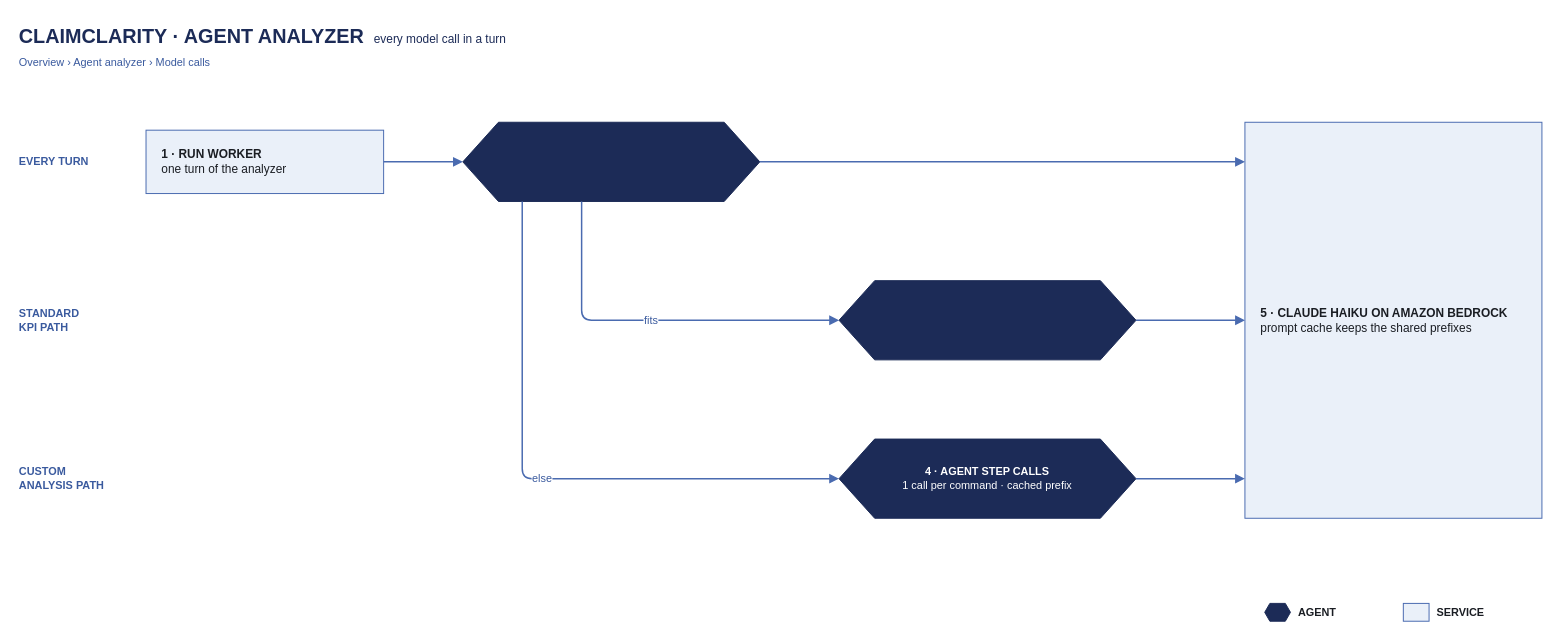
Image size: 1559x644. Some labels were removed from this diagram. Each missing label, with the box of its shape:
2 · KPI GATE CALL 1 call · cached prompt · ~2.3 s: (462, 121, 760, 201)
3 · REPLY WRITER CALL 1 call · no tools · 1–2 s: (838, 280, 1136, 360)
